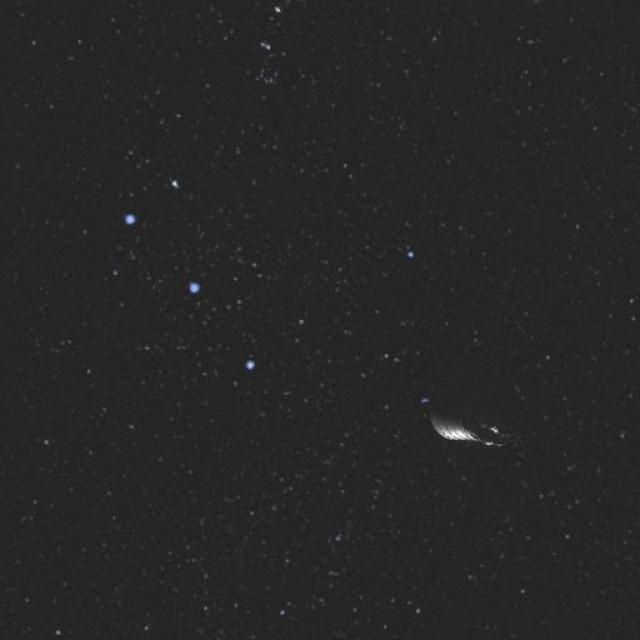debris: (409, 334, 537, 469)
